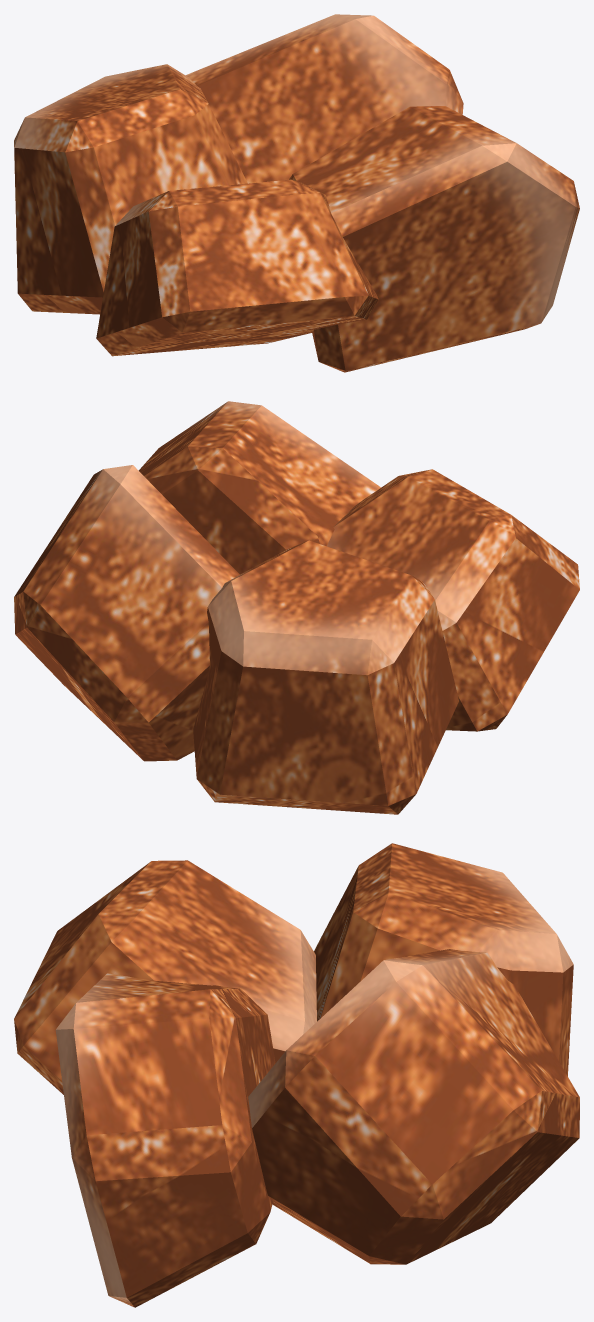
The model's file is static.fbx.
3 views of the same model, one above another, from view 1: azimuth 30°, elevation 25°; view 2: azimuth 150°, elevation 25°; view 3: azimuth 270°, elevation 25° (orthographic). The views are drawn at different scales.
Visible parts, largest first — view 1: Cube_1, Cube_1_0, Cube_1_2_3, Cube_3; view 2: Cube_1_2_3, Cube_3, Cube_1_0, Cube_1; view 3: Cube_3, Cube_1, Cube_1_0, Cube_1_2_3.
Boxes of the visible parts, x1,y1,x2,y2 form: Cube_1: [289, 106, 579, 372]; Cube_1_0: [96, 179, 378, 356]; Cube_1_2_3: [14, 64, 247, 314]; Cube_3: [185, 14, 463, 183]; Cube_1_2_3: [193, 540, 458, 814]; Cube_3: [14, 465, 239, 761]; Cube_1_0: [327, 469, 579, 731]; Cube_1: [138, 401, 380, 574]; Cube_3: [248, 949, 579, 1264]; Cube_1: [55, 973, 275, 1307]; Cube_1_0: [14, 860, 316, 1094]; Cube_1_2_3: [314, 843, 573, 1076].
Size of the model in its own units: 95.17 by 56.29 by 91.01.
1 material, 1 textured.
